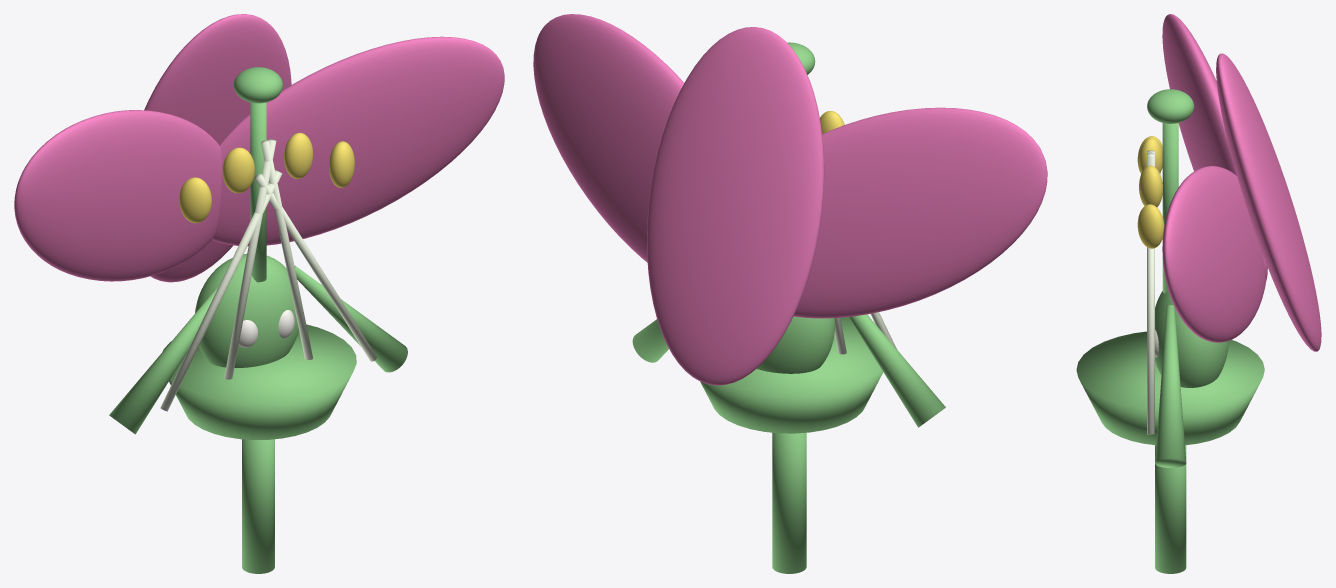
File: flower-anatomy.glb
3 renders of one model, left to right at view 1: azimuth 30°, elevation 25°; view 2: azimuth 150°, elevation 25°; view 3: azimuth 270°, elevation 25°, orthographic. The views are drawn at different scales.
Visible parts, largest first — view 1: flower-anatomy-petal-2, flower-anatomy-petal-0, flower-anatomy-receptacle, flower-anatomy-petal-1, flower-anatomy-ovary, flower-anatomy-pedicel, flower-anatomy-sepal--1, flower-anatomy-sepal-1, flower-anatomy-filament-0, flower-anatomy-style, flower-anatomy-filament-1, flower-anatomy-filament-3 (+6 smaller); view 2: flower-anatomy-petal-1, flower-anatomy-petal-0, flower-anatomy-petal-2, flower-anatomy-receptacle, flower-anatomy-pedicel, flower-anatomy-sepal--1, flower-anatomy-ovary, flower-anatomy-sepal-1; view 3: flower-anatomy-petal-2, flower-anatomy-petal-1, flower-anatomy-receptacle, flower-anatomy-petal-0, flower-anatomy-pedicel, flower-anatomy-sepal-1, flower-anatomy-ovary, flower-anatomy-style, flower-anatomy-filament-3, flower-anatomy-stigma, flower-anatomy-anther-3, flower-anatomy-anther-2 (+1 smaller).
Part boxes in pixels (x1,y1,x2,y2): flower-anatomy-petal-2: (212,36,504,246); flower-anatomy-petal-0: (14,110,221,281); flower-anatomy-receptacle: (162,324,356,439); flower-anatomy-petal-1: (144,14,291,282); flower-anatomy-ovary: (195,253,298,367); flower-anatomy-pedicel: (242,439,274,573); flower-anatomy-sepal--1: (109,284,219,434); flower-anatomy-sepal-1: (294,265,407,372); flower-anatomy-filament-0: (160,170,282,411); flower-anatomy-style: (250,102,266,282); flower-anatomy-filament-1: (224,139,276,379); flower-anatomy-filament-3: (255,173,376,361); flower-anatomy-petal-1: (647,27,824,385); flower-anatomy-petal-0: (793,107,1047,318); flower-anatomy-petal-2: (533,14,684,262); flower-anatomy-receptacle: (700,317,883,433); flower-anatomy-pedicel: (772,432,806,573); flower-anatomy-sepal--1: (849,314,945,427); flower-anatomy-ovary: (756,316,834,373); flower-anatomy-sepal-1: (632,319,668,362); flower-anatomy-petal-2: (1162,166,1266,342); flower-anatomy-petal-1: (1216,53,1321,351); flower-anatomy-receptacle: (1076,331,1264,445); flower-anatomy-petal-0: (1162,14,1267,280); flower-anatomy-pedicel: (1155,445,1186,573); flower-anatomy-sepal-1: (1155,305,1186,467); flower-anatomy-ovary: (1155,291,1229,387); flower-anatomy-style: (1162,123,1178,293); flower-anatomy-filament-3: (1147,247,1154,434); flower-anatomy-stigma: (1147,89,1194,123); flower-anatomy-anther-3: (1137,204,1164,248); flower-anatomy-anther-2: (1139,165,1162,207).
Bounding box in the file's own units: 0.1376 × 0.1431 × 0.0624.
